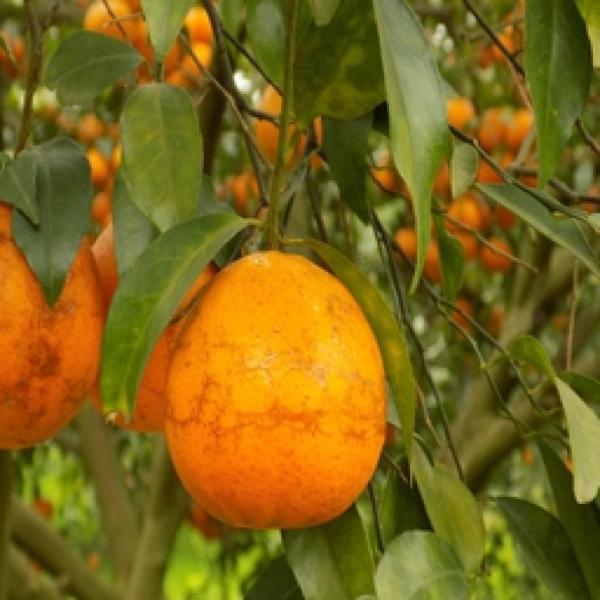Canker: (159, 243, 396, 541), (88, 209, 222, 443), (0, 234, 106, 451)
